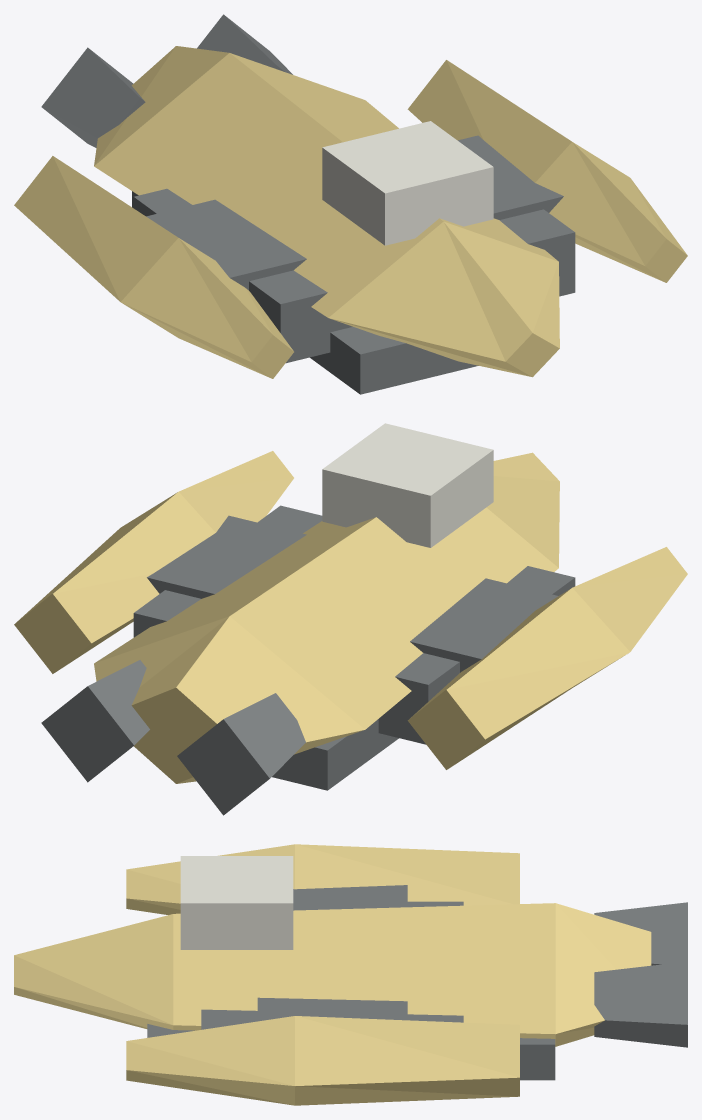
3 views of the same model, one above another, from view 1: azimuth 30°, elevation 25°; view 2: azimuth 150°, elevation 25°; view 3: azimuth 270°, elevation 25° (orthographic). The views are drawn at different scales.
Bounding box in the file's own units: 5.84 × 2.05 × 7.48.
